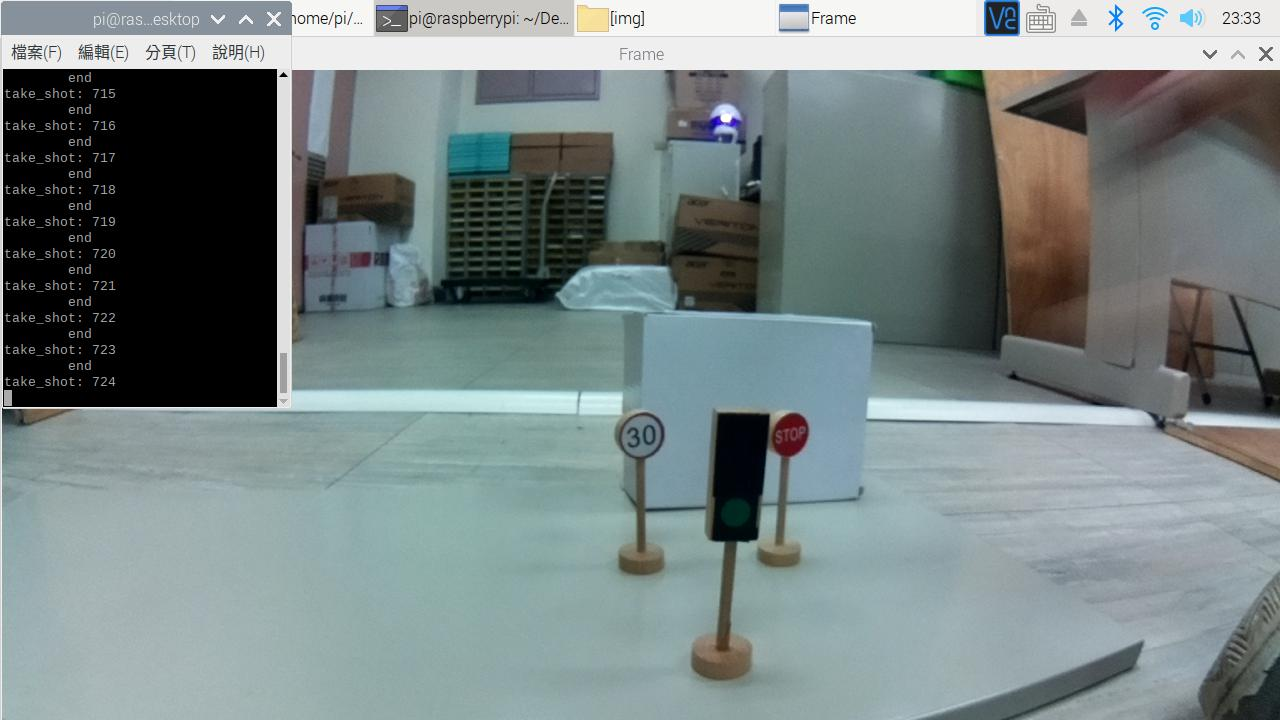Green: (709, 407, 766, 546)
Speed30: (611, 409, 668, 460)
Stop: (769, 403, 816, 457)
